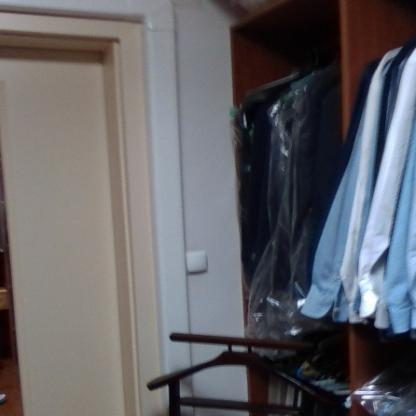door: (0, 38, 135, 416)
